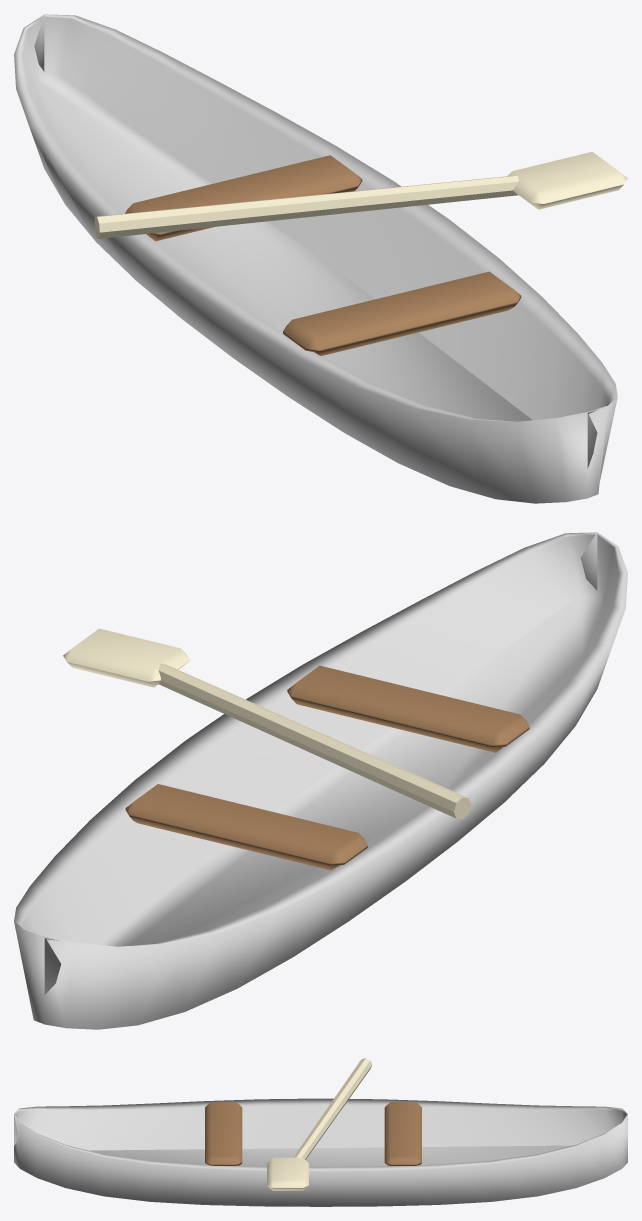
The model's file is canoe.glb.
The picture shows the model from 3 angles, top to bottom: view 1: azimuth 30°, elevation 25°; view 2: azimuth 150°, elevation 25°; view 3: azimuth 270°, elevation 25°; orthographic projection. The views are drawn at different scales.
Visible parts, largest first — view 1: BoatColor, Honey wood.001, Cream trim.001; view 2: BoatColor, Honey wood.001, Cream trim.001; view 3: BoatColor, Honey wood.001, Cream trim.001.
Part boxes in pixels (box(x1,y1,x2,y2)): BoatColor: box(14, 14, 617, 503); Honey wood.001: box(125, 155, 521, 355); Cream trim.001: box(94, 151, 627, 238); BoatColor: box(14, 532, 627, 1029); Honey wood.001: box(125, 665, 529, 870); Cream trim.001: box(63, 628, 471, 819); BoatColor: box(14, 1098, 627, 1206); Honey wood.001: box(205, 1102, 421, 1166); Cream trim.001: box(267, 1058, 372, 1190).
Bounding box in the file's own units: 1.97 × 0.565 × 4.1.
